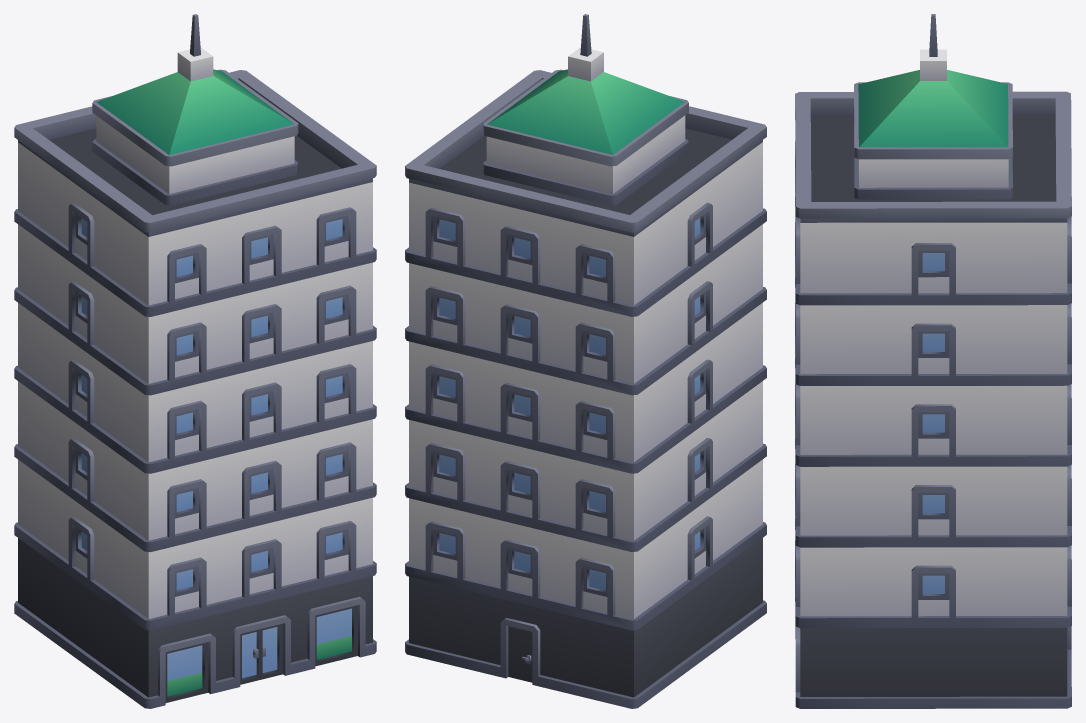
Rendered from building-m.067_lev1.glb.
3 views of the same model, side by side, from view 1: azimuth 30°, elevation 25°; view 2: azimuth 150°, elevation 25°; view 3: azimuth 270°, elevation 25° (orthographic). The views are drawn at different scales.
Parts seen in each view (by area): view 1: building-m.067_lev1; view 2: building-m.067_lev1; view 3: building-m.067_lev1.
Part boxes in pixels (x1,y1,x2,y2): building-m.067_lev1: (14, 14, 376, 708); building-m.067_lev1: (405, 14, 766, 708); building-m.067_lev1: (795, 14, 1071, 708).
Bounding box in the file's own units: 6.22 × 15.75 × 6.22.
1 material, 1 textured.
